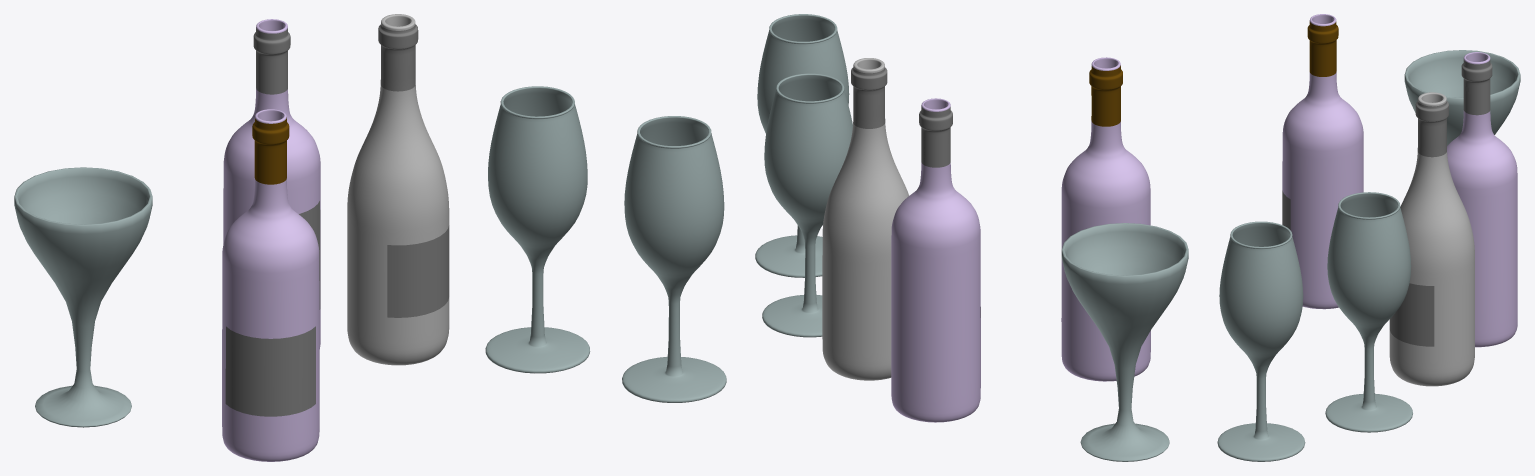
File: uploads_files_2016280_019+-+Wine.FBX
The picture shows the model from 3 angles, left to right: view 1: azimuth 30°, elevation 25°; view 2: azimuth 150°, elevation 25°; view 3: azimuth 270°, elevation 25°; orthographic projection. The views are drawn at different scales.
Visible parts, largest first — view 1: Architectural_Model_019_12, Architectural_Model_019_00, Architectural_Model_001_10_Glass003, Architectural_Model_001_10_Glass004, Architectural_Model_019_14, Architectural_Model_019_17, Architectural_Model_019_07, Architectural_Model_019_10, Architectural_Model_019_11, Architectural_Model_019_15, Architectural_Model_019_04; view 2: Architectural_Model_019_07, Architectural_Model_019_12, Architectural_Model_019_00, Architectural_Model_001_10_Glass003, Architectural_Model_019_14, Architectural_Model_001_10_Glass004, Architectural_Model_019_11, Architectural_Model_019_15, Architectural_Model_019_04; view 3: Architectural_Model_019_12, Architectural_Model_001_10_Glass004, Architectural_Model_001_10_Glass003, Architectural_Model_019_14, Architectural_Model_019_07, Architectural_Model_019_00, Architectural_Model_019_10, Architectural_Model_019_11, Architectural_Model_019_04, Architectural_Model_019_15.
Boxes of the visible parts, x1,y1,x2,y2 form: Architectural_Model_019_12: (347, 14, 449, 365); Architectural_Model_019_00: (14, 167, 152, 427); Architectural_Model_001_10_Glass003: (485, 86, 590, 373); Architectural_Model_001_10_Glass004: (622, 116, 726, 402); Architectural_Model_019_14: (222, 109, 319, 461); Architectural_Model_019_17: (225, 326, 315, 416); Architectural_Model_019_07: (223, 19, 320, 348); Architectural_Model_019_10: (387, 225, 449, 317); Architectural_Model_019_11: (378, 24, 418, 91); Architectural_Model_019_15: (252, 117, 289, 184); Architectural_Model_019_04: (253, 28, 290, 94); Architectural_Model_019_07: (891, 98, 980, 422); Architectural_Model_019_12: (822, 58, 909, 380); Architectural_Model_019_00: (1061, 223, 1188, 461); Architectural_Model_001_10_Glass003: (762, 73, 852, 337); Architectural_Model_019_14: (1061, 57, 1150, 381); Architectural_Model_001_10_Glass004: (755, 14, 849, 277); Architectural_Model_019_11: (851, 67, 887, 128); Architectural_Model_019_15: (1089, 65, 1122, 126); Architectural_Model_019_04: (919, 106, 952, 167); Architectural_Model_019_12: (1389, 92, 1474, 386); Architectural_Model_001_10_Glass004: (1217, 221, 1305, 461); Architectural_Model_001_10_Glass003: (1325, 192, 1412, 432); Architectural_Model_019_14: (1282, 14, 1363, 309); Architectural_Model_019_07: (1447, 52, 1517, 347); Architectural_Model_019_00: (1404, 50, 1520, 145); Architectural_Model_019_10: (1389, 283, 1434, 346); Architectural_Model_019_11: (1415, 101, 1448, 157); Architectural_Model_019_04: (1461, 59, 1492, 115); Architectural_Model_019_15: (1307, 21, 1338, 76).
Bounding box in the file's own units: 55.54 × 30.26 × 30.24.
